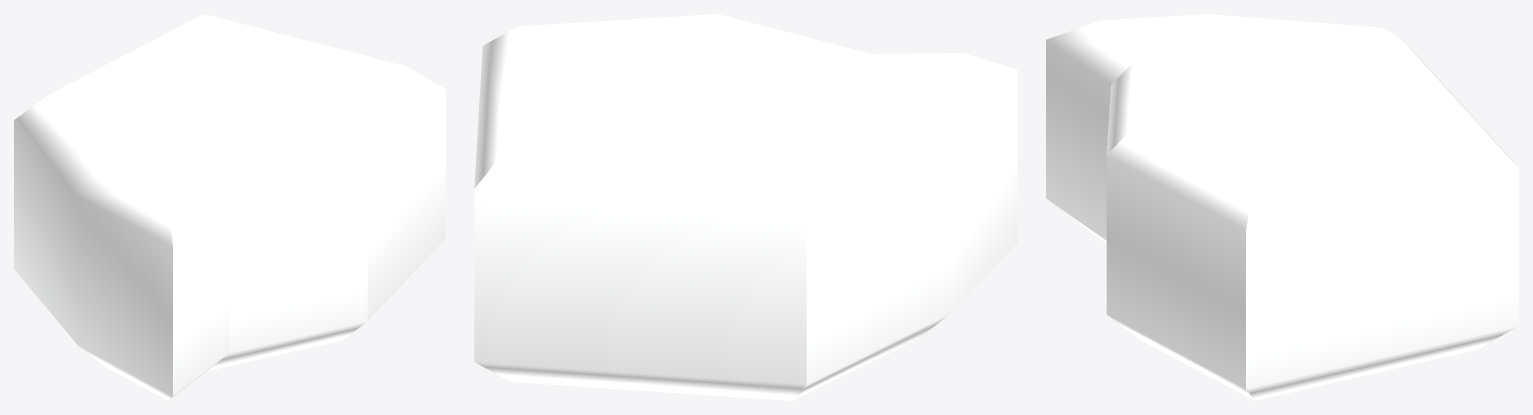
File: ice_floe_small_004.glb
3 renders of one model, left to right at view 1: azimuth 30°, elevation 25°; view 2: azimuth 150°, elevation 25°; view 3: azimuth 270°, elevation 25°, orthographic. The views are drawn at different scales.
Visible parts, largest first — view 1: ice_floe_small_004; view 2: ice_floe_small_004; view 3: ice_floe_small_004.
Part boxes in pixels (bbox=[...]): ice_floe_small_004: bbox=[14, 14, 445, 400]; ice_floe_small_004: bbox=[474, 14, 1017, 400]; ice_floe_small_004: bbox=[1046, 14, 1518, 400].
Bounding box in the file's own units: 1.37 × 0.6962 × 1.36.
Materials: 1 (1 with a texture image).
